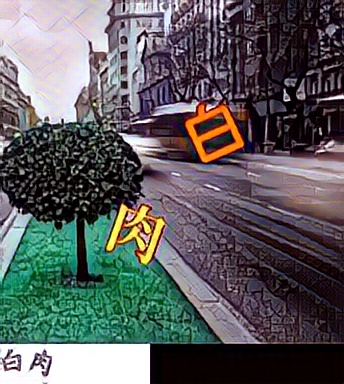B0D7: (183, 98, 245, 162)
C8E2: (103, 198, 165, 262)
